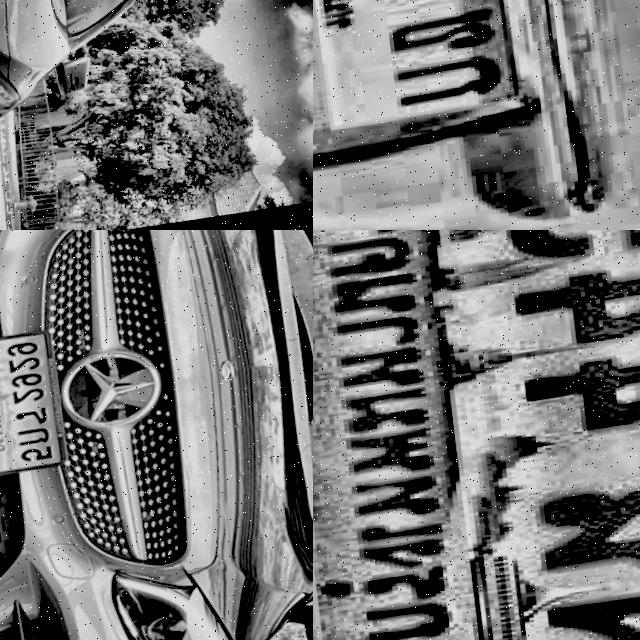license-plate: (313, 230, 640, 640), (313, 0, 572, 189), (0, 327, 68, 482)
